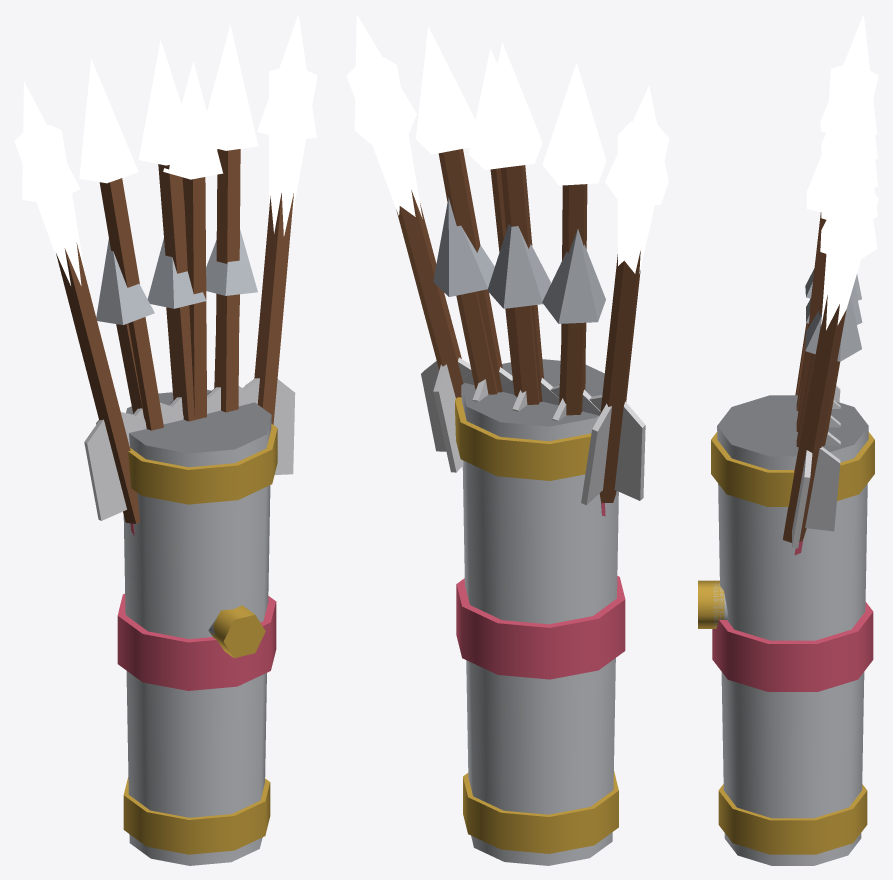
File: aoi_p0.glb
3 renders of one model, left to right at view 1: azimuth 30°, elevation 25°; view 2: azimuth 150°, elevation 25°; view 3: azimuth 270°, elevation 25°, orthographic. The views are drawn at different scales.
Parts seen in each view (by area): view 1: p0_cometQuiver_body, p0_cometQuiver_glow, p0_quiver_body, p0_comet_body, p0_comet_glow; view 2: p0_cometQuiver_body, p0_cometQuiver_glow, p0_quiver_body, p0_comet_glow, p0_comet_body; view 3: p0_cometQuiver_body, p0_cometQuiver_glow, p0_quiver_body, p0_comet_glow, p0_comet_body.
Boxes of the visible parts, x1,y1,x2,y2 form: p0_cometQuiver_body: (56,149,295,865); p0_cometQuiver_glow: (14,14,317,285); p0_quiver_body: (96,229,257,637); p0_comet_body: (182,177,206,418); p0_comet_glow: (163,61,223,179); p0_cometQuiver_body: (396,149,645,865); p0_cometQuiver_glow: (346,14,669,273); p0_quiver_body: (433,197,605,516); p0_comet_glow: (468,48,500,169); p0_comet_body: (490,168,516,396); p0_cometQuiver_body: (698,282,874,865); p0_cometQuiver_glow: (820,14,878,330); p0_quiver_body: (713,268,862,627); p0_comet_glow: (806,102,850,212); p0_comet_body: (796,212,826,431).
Bounding box in the file's own units: 0.22 × 0.5564 × 0.1191.
